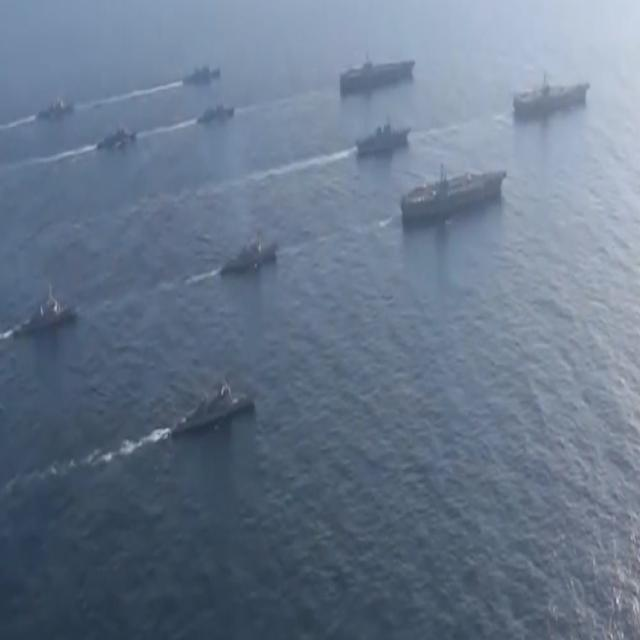navalvessels: (402, 164, 504, 218), (169, 379, 253, 438), (336, 41, 416, 98), (513, 66, 589, 121), (11, 284, 76, 338), (220, 228, 274, 274), (357, 118, 412, 160), (184, 54, 225, 92), (194, 93, 236, 129), (34, 90, 77, 123), (100, 120, 136, 152)
